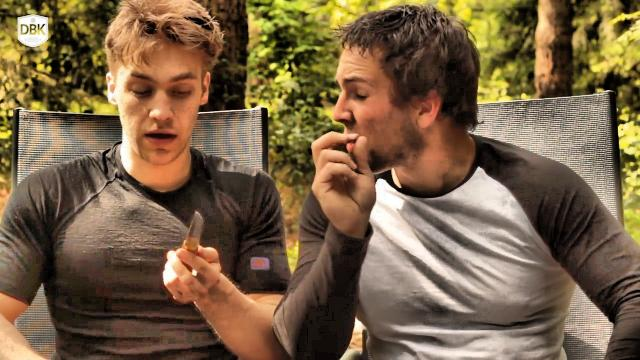knife: (156, 201, 217, 289)
